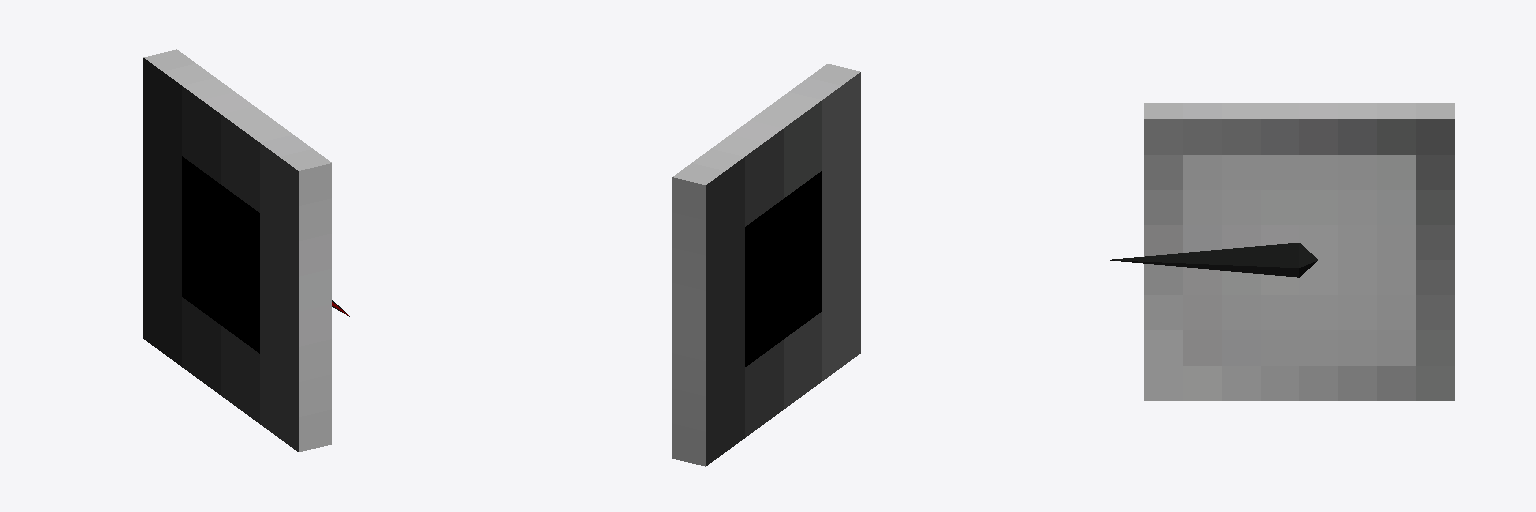
3 views of the same model, side by side, from view 1: azimuth 30°, elevation 25°; view 2: azimuth 150°, elevation 25°; view 3: azimuth 270°, elevation 25° (orthographic).
Visible parts, largest first — view 1: base; view 2: base; view 3: base, cMin.
Boxes of the visible parts, <box> form: base: <box>143,49,331,451</box>; base: <box>672,64,860,466</box>; base: <box>1144,103,1454,400</box>; cMin: <box>1110,243,1317,277</box>.
Bounding box in the file's own units: 0.0938 × 0.5 × 0.5625.
Materials: 1 (1 with a texture image).